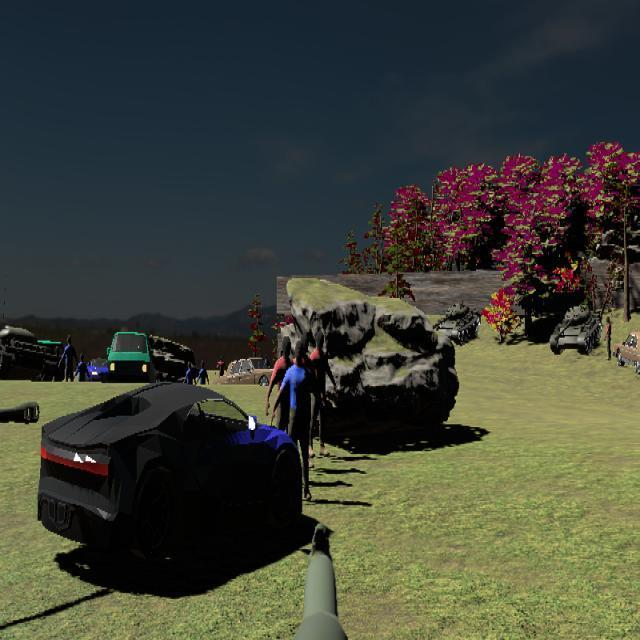Human: (272, 334, 324, 501)
Tank: (0, 324, 67, 382), (550, 304, 602, 356), (434, 300, 481, 346)
car: (36, 384, 306, 556), (106, 331, 154, 384), (218, 357, 293, 388), (615, 332, 640, 377)
